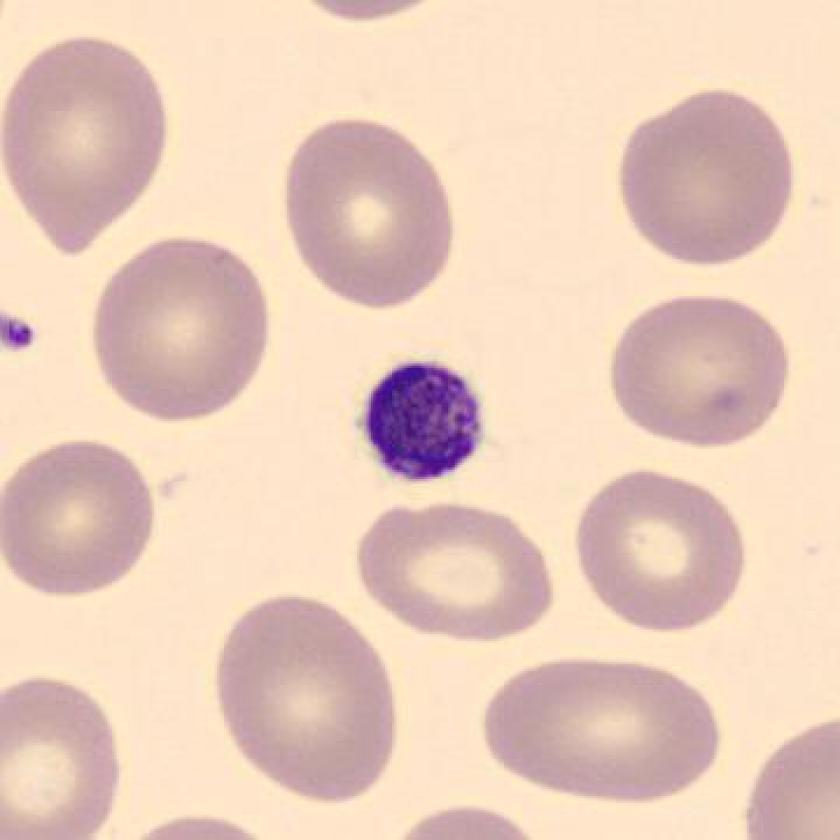platelets: (354, 353, 494, 492)
